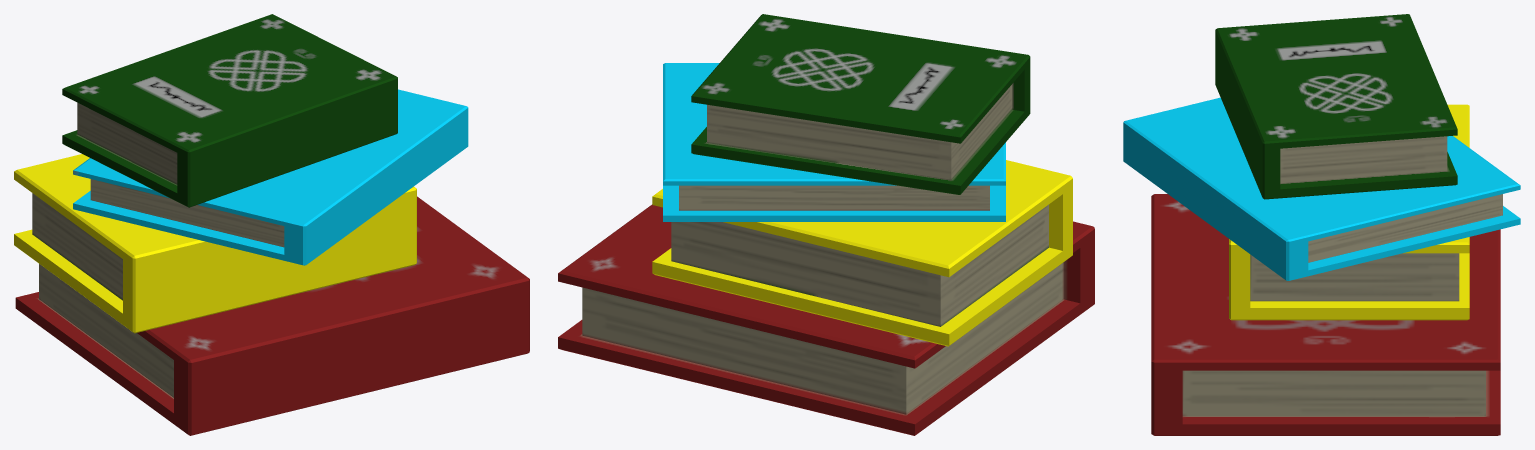
File: MagicBook_4.fbx
3 renders of one model, left to right at view 1: azimuth 30°, elevation 25°; view 2: azimuth 150°, elevation 25°; view 3: azimuth 270°, elevation 25°, orthographic. The views are drawn at different scales.
Visible parts, largest first — view 1: MagicBook_4; view 2: MagicBook_4; view 3: MagicBook_4.
Part boxes in pixels (x1=…): MagicBook_4: x1=14, y1=14, x2=529, y2=435; MagicBook_4: x1=558, y1=14, x2=1094, y2=435; MagicBook_4: x1=1123, y1=14, x2=1520, y2=435.
Size of the model in its own units: 115 by 77.41 by 108.
